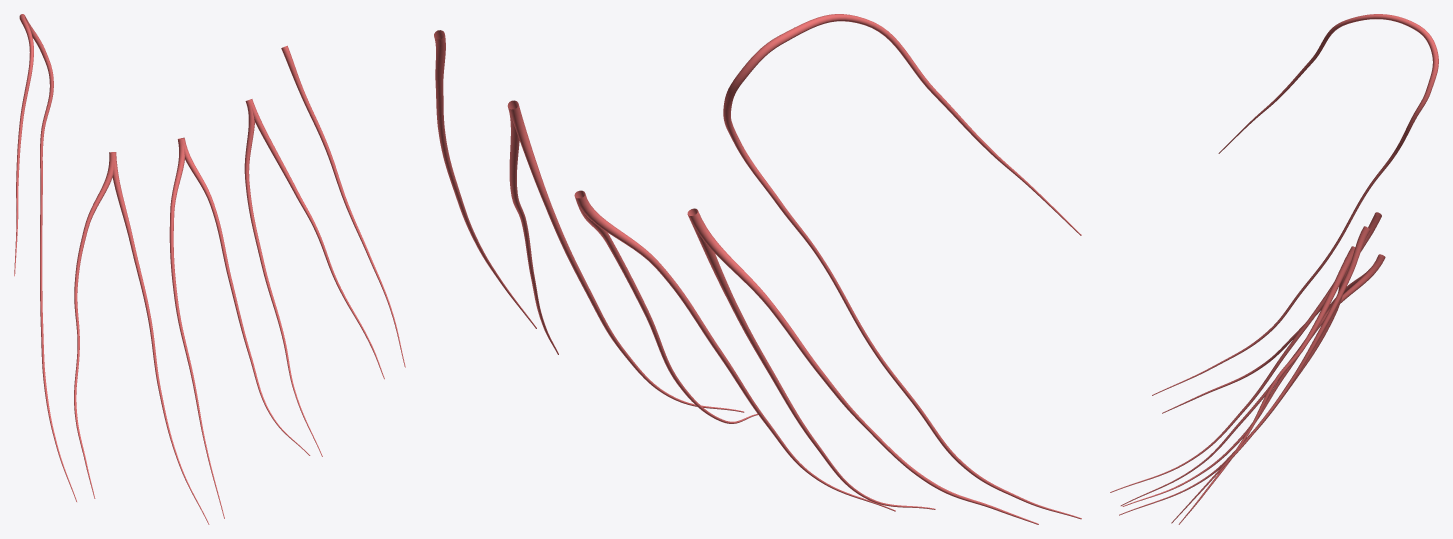
File: Dorsal_digital_arteries_hand_right.glb
The picture shows the model from 3 angles, left to right: view 1: azimuth 30°, elevation 25°; view 2: azimuth 150°, elevation 25°; view 3: azimuth 270°, elevation 25°; orthographic projection. The views are drawn at different scales.
Parts seen in each view (by area): view 1: Dorsal_digital_arteries_of_hand.r_BezierCurve.077; view 2: Dorsal_digital_arteries_of_hand.r_BezierCurve.077; view 3: Dorsal_digital_arteries_of_hand.r_BezierCurve.077.
Boxes of the visible parts, left/top/right/bottom form: Dorsal_digital_arteries_of_hand.r_BezierCurve.077: left=14, top=14, right=405, bottom=524; Dorsal_digital_arteries_of_hand.r_BezierCurve.077: left=434, top=14, right=1081, bottom=524; Dorsal_digital_arteries_of_hand.r_BezierCurve.077: left=1110, top=14, right=1438, bottom=524.
Bounding box in the file's own units: 0.1029 × 0.1112 × 0.0732.
